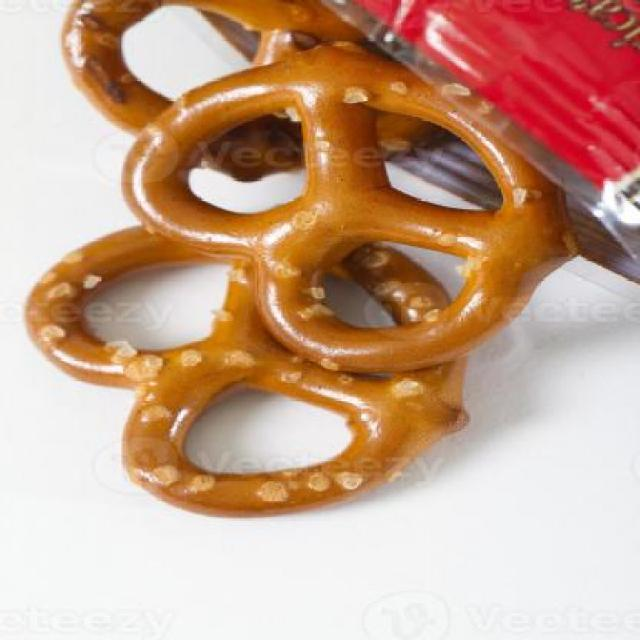Salatini packaged: (20, 3, 582, 523)
